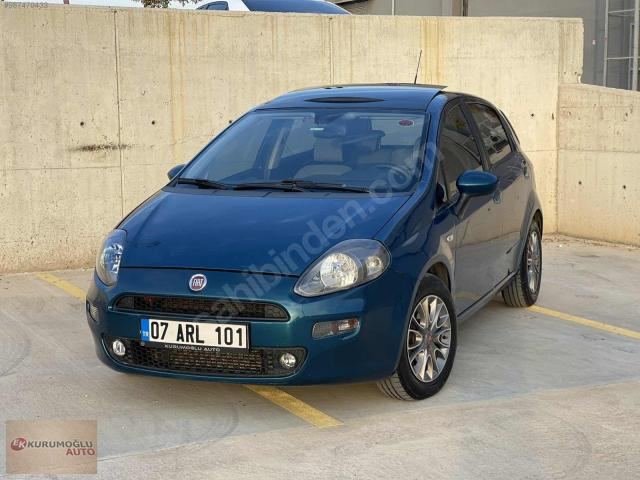plaka: (140, 318, 248, 349)
